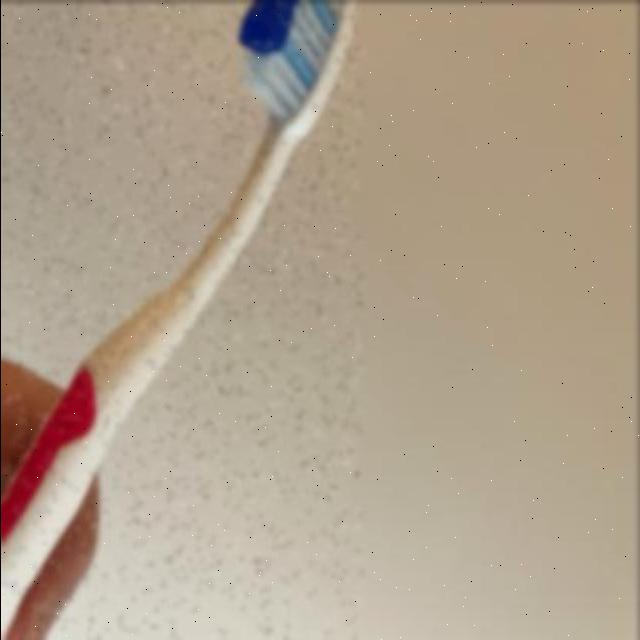toothbrush: (5, 0, 363, 640)
